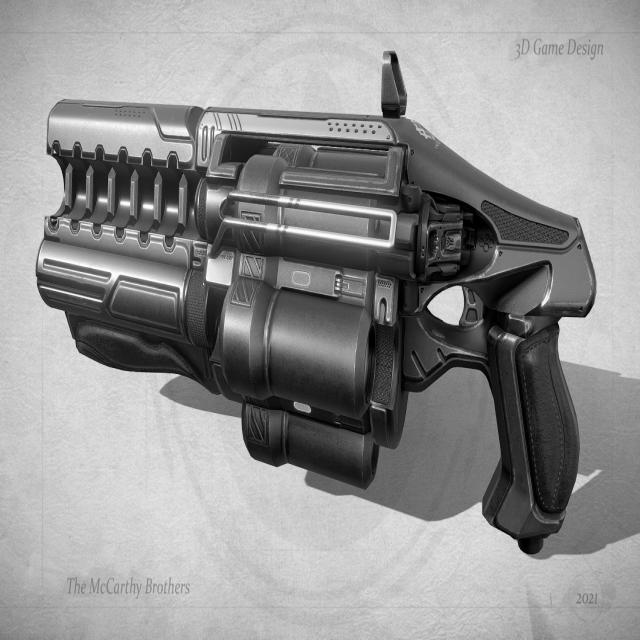Lancher: (33, 37, 640, 555)
